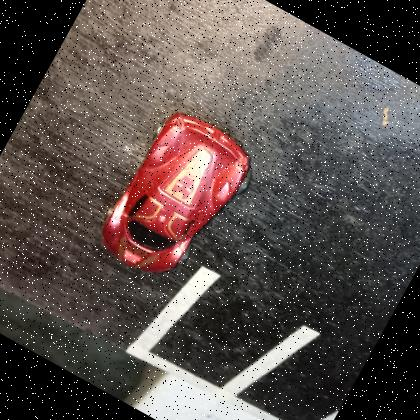Car: (102, 111, 251, 272)
